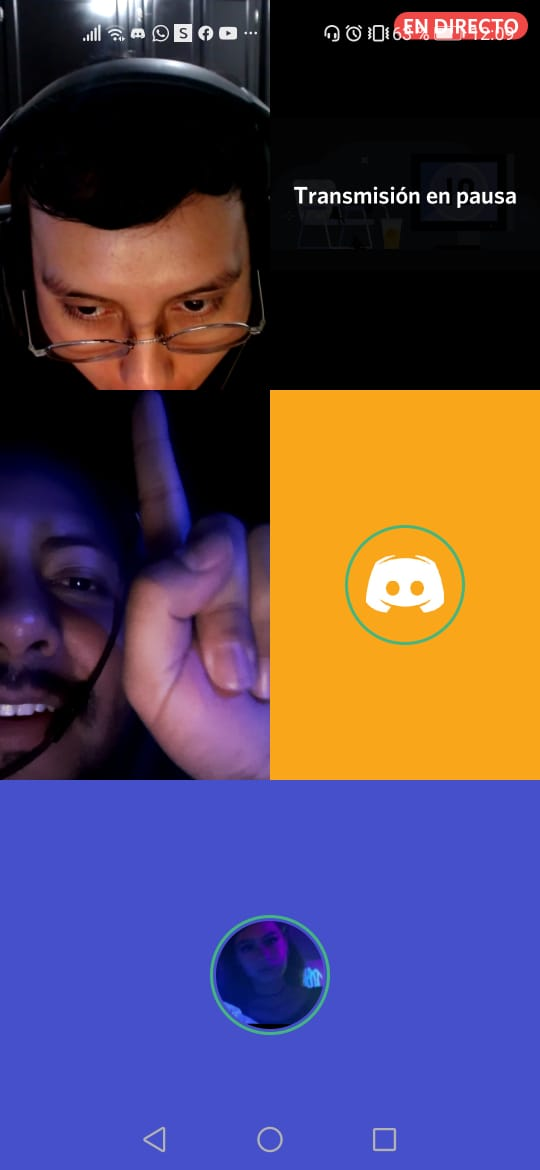Yoshi: (6, 414, 146, 764)
